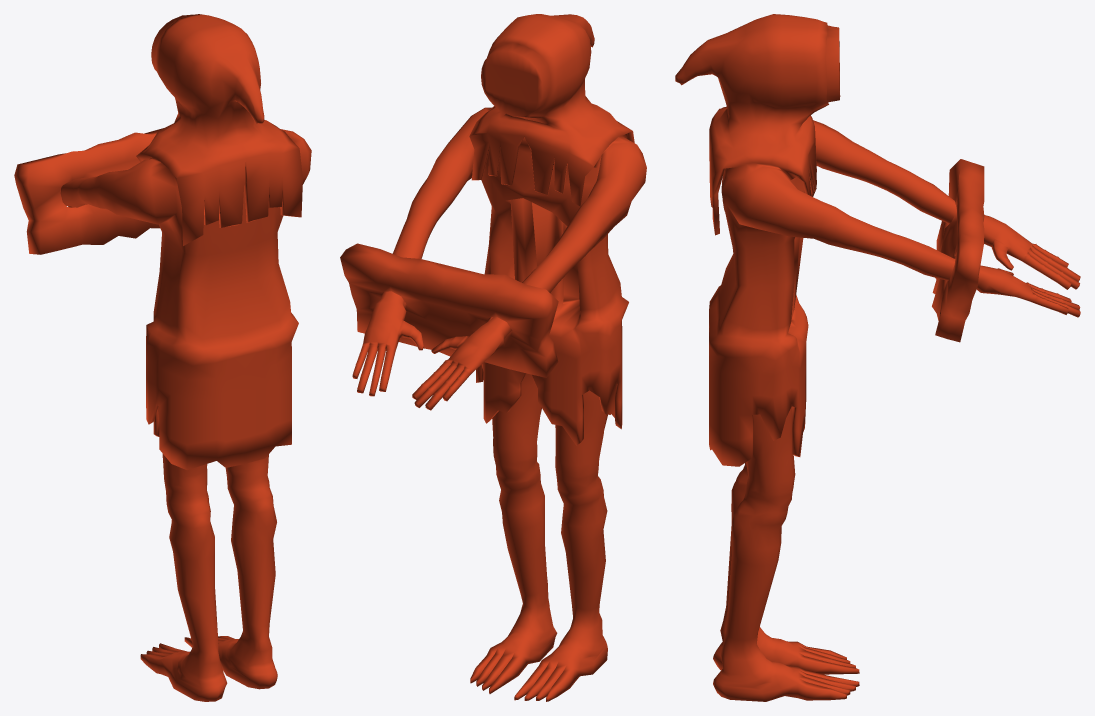
The model's file is basic2.obj.
The picture shows the model from 3 angles, left to right: view 1: azimuth 30°, elevation 25°; view 2: azimuth 150°, elevation 25°; view 3: azimuth 270°, elevation 25°; orthographic projection.
Visible parts, largest first — view 1: dyby; view 2: dyby; view 3: dyby.
Part boxes in pixels (<box>): dyby: <box>14,14,311,701</box>; dyby: <box>340,14,646,701</box>; dyby: <box>675,14,1080,701</box>.
Size of the model in its own units: 1.31 by 3.95 by 2.21.
